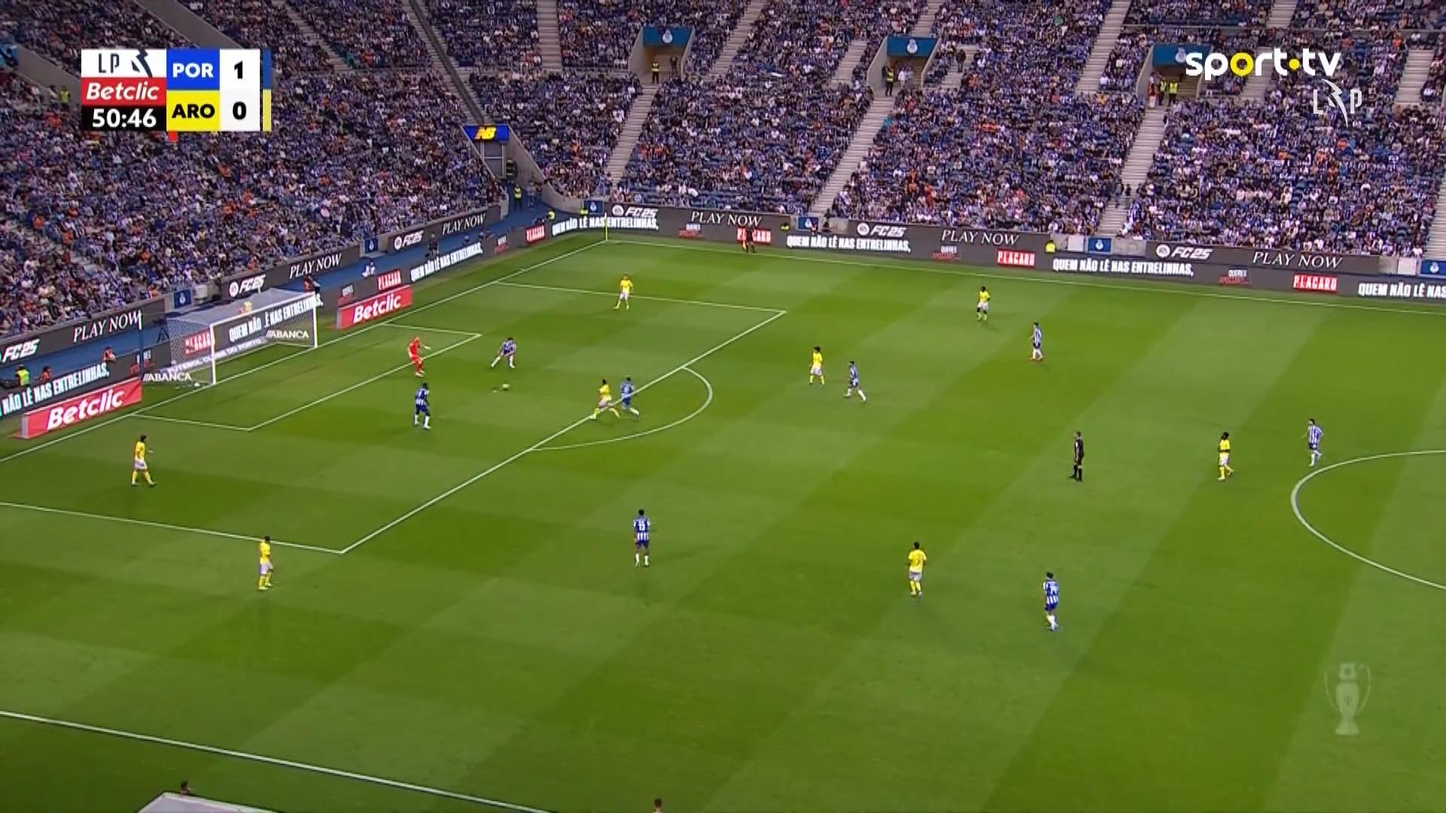ball: (502, 382, 509, 389)
goalkeeper: (407, 335, 429, 377)
player: (130, 434, 156, 487), (905, 540, 926, 596), (592, 377, 619, 420), (632, 507, 651, 567), (1042, 571, 1060, 631), (256, 534, 275, 590), (843, 359, 866, 401), (412, 381, 432, 429), (1304, 417, 1323, 467), (489, 336, 517, 369), (618, 376, 640, 416), (1216, 431, 1233, 481), (612, 273, 632, 310), (807, 345, 825, 386), (1028, 321, 1044, 361), (975, 285, 990, 321)
referee: (1070, 430, 1084, 481), (741, 223, 757, 254)
